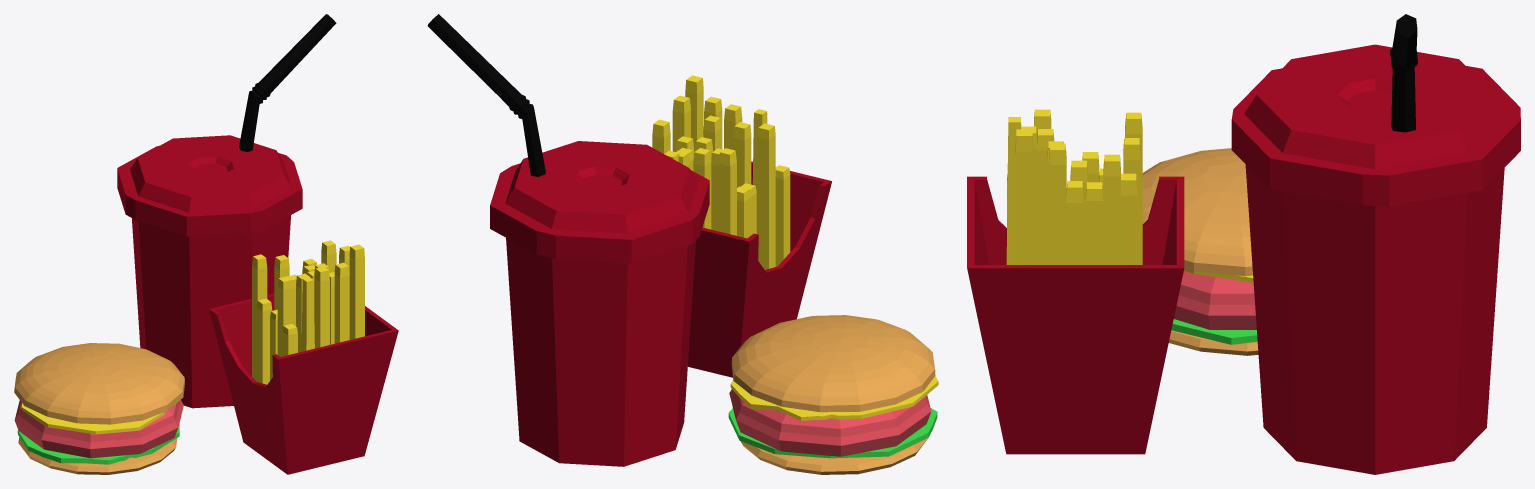
File: cola.fbx
The picture shows the model from 3 angles, left to right: view 1: azimuth 30°, elevation 25°; view 2: azimuth 150°, elevation 25°; view 3: azimuth 270°, elevation 25°; orthographic projection. The views are drawn at different scales.
Visible parts, largest first — view 1: Circle, Cube, Circle.002; view 2: Circle, Circle.002, Cube; view 3: Circle, Cube, Circle.002.
Part boxes in pixels (left/top/right/bottom): Circle: left=117, top=14, right=336, bottom=408; Cube: left=209, top=240, right=398, bottom=474; Circle.002: left=14, top=343, right=184, bottom=474; Circle: left=427, top=14, right=709, bottom=466; Circle.002: left=728, top=315, right=938, bottom=474; Cube: left=652, top=75, right=831, bottom=377; Circle: left=1231, top=14, right=1520, bottom=474; Cube: left=967, top=109, right=1184, bottom=454; Circle.002: left=1142, top=148, right=1258, bottom=355.
Bounding box in the file's own units: 5.88 × 5.05 × 4.96.
